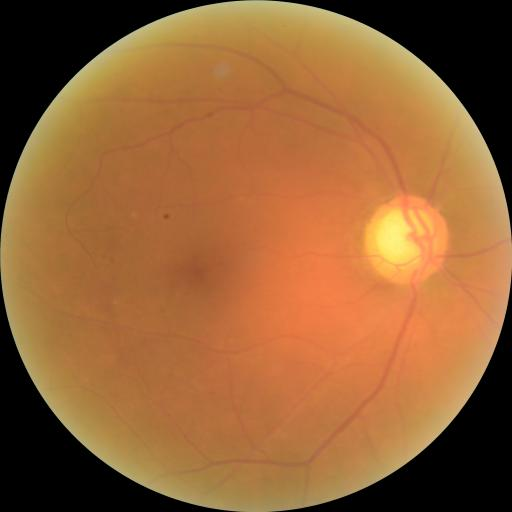Optic Cup: (376, 208, 435, 267)
Optic Disc: (365, 194, 449, 285)
